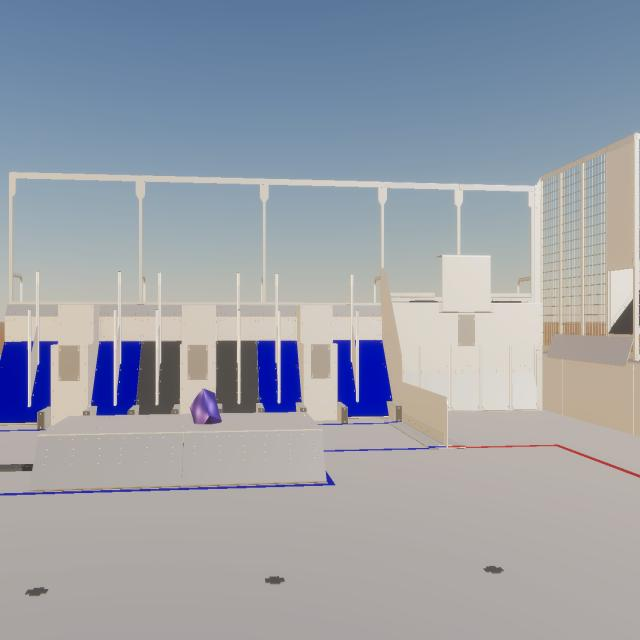frc_cube: (190, 388, 222, 424)
